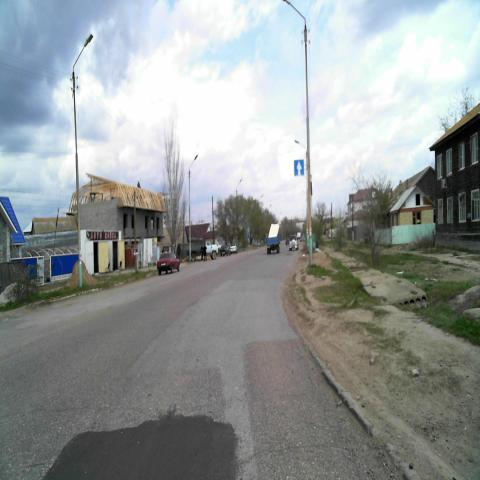5_5: (294, 158, 304, 176)
